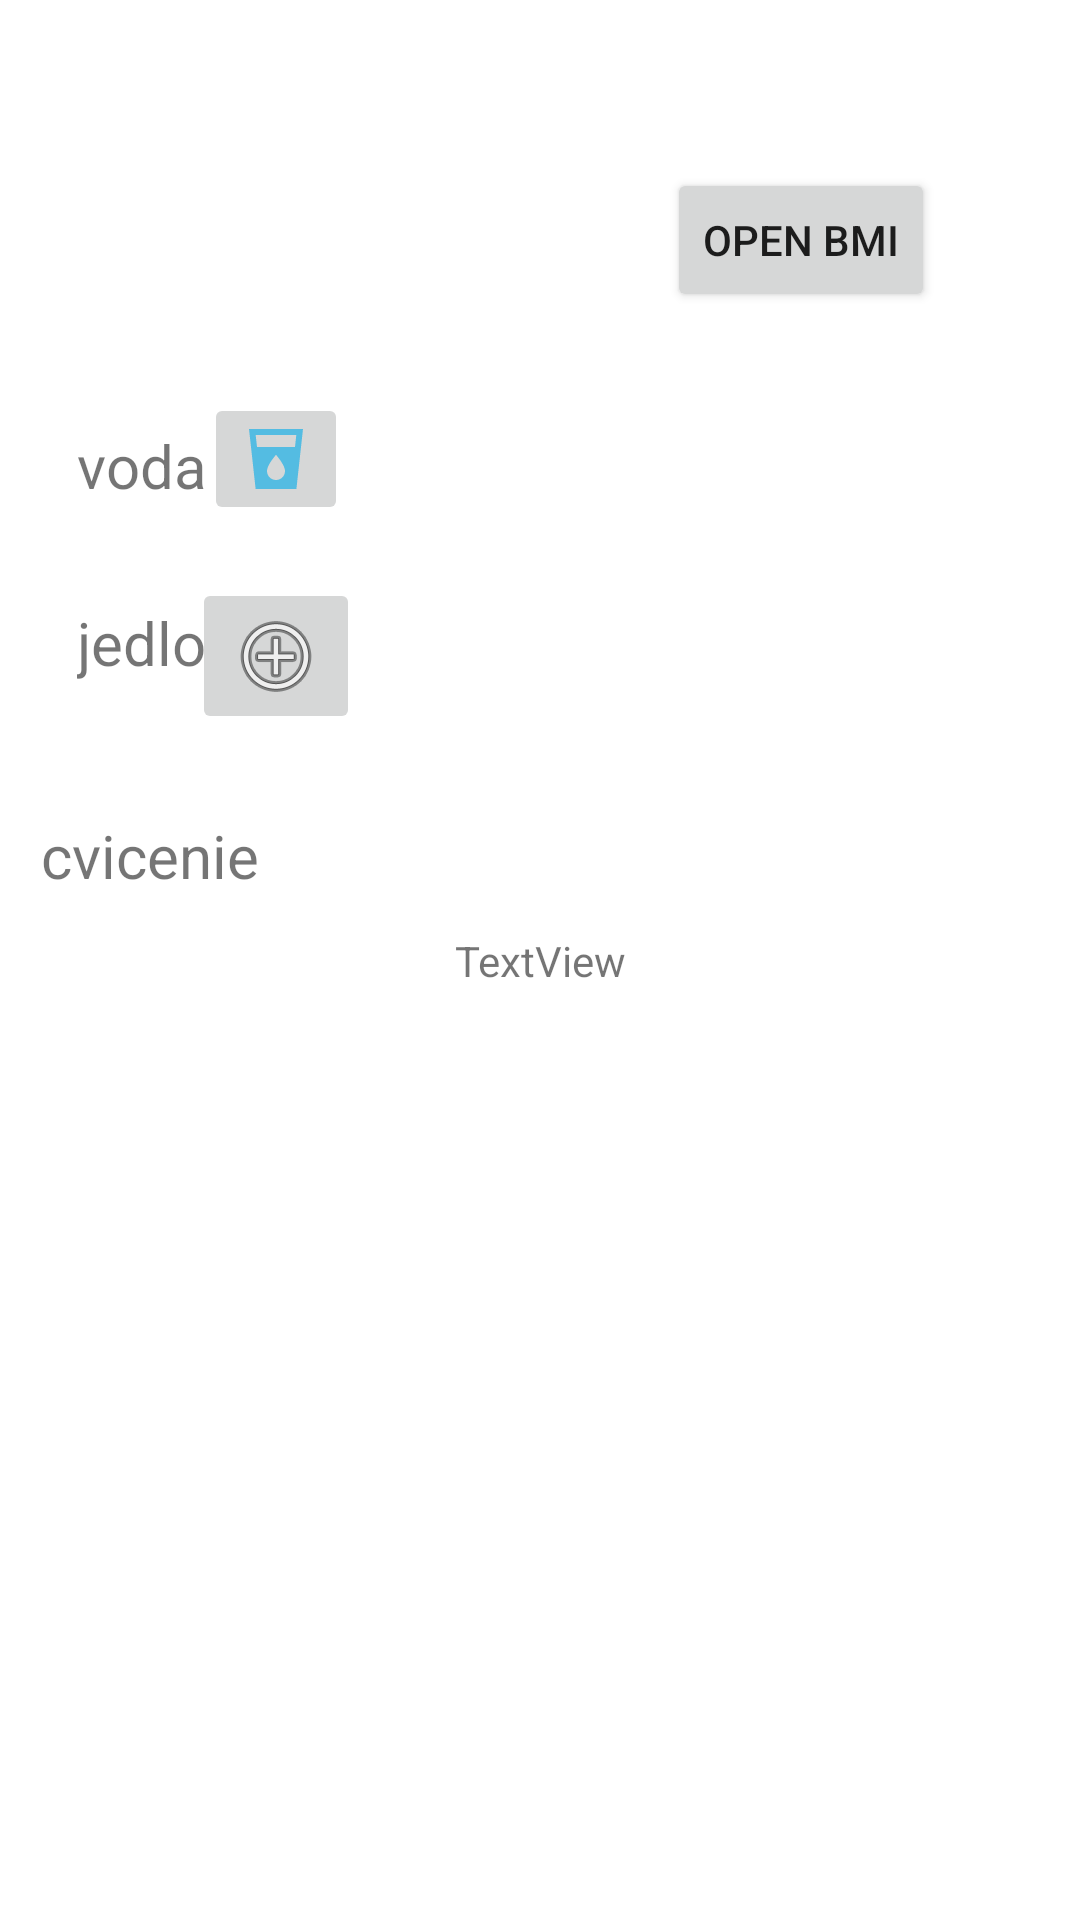

Locate icon controls on the screen. Image size 1080 x 1920, boxes as region(x1, y1, x2, y2).
add: region(192, 596, 348, 716)
